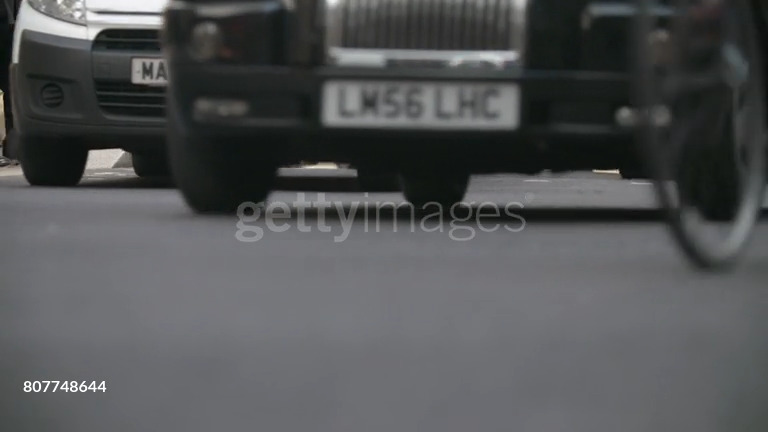car number: (318, 78, 519, 127), (129, 57, 168, 84)
